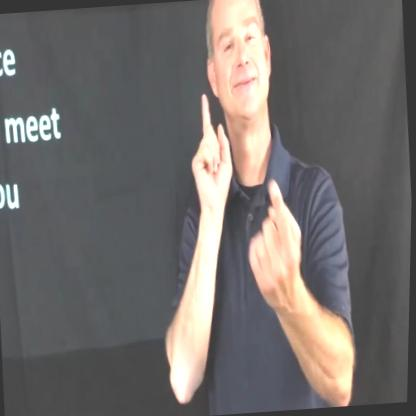NiceToMeetYou: (172, 76, 310, 328)
